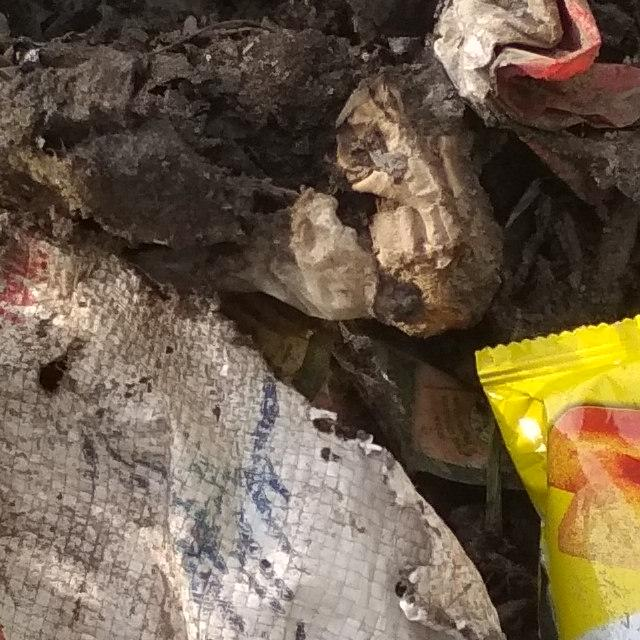plastic: (0, 193, 640, 640), (400, 216, 640, 640)
